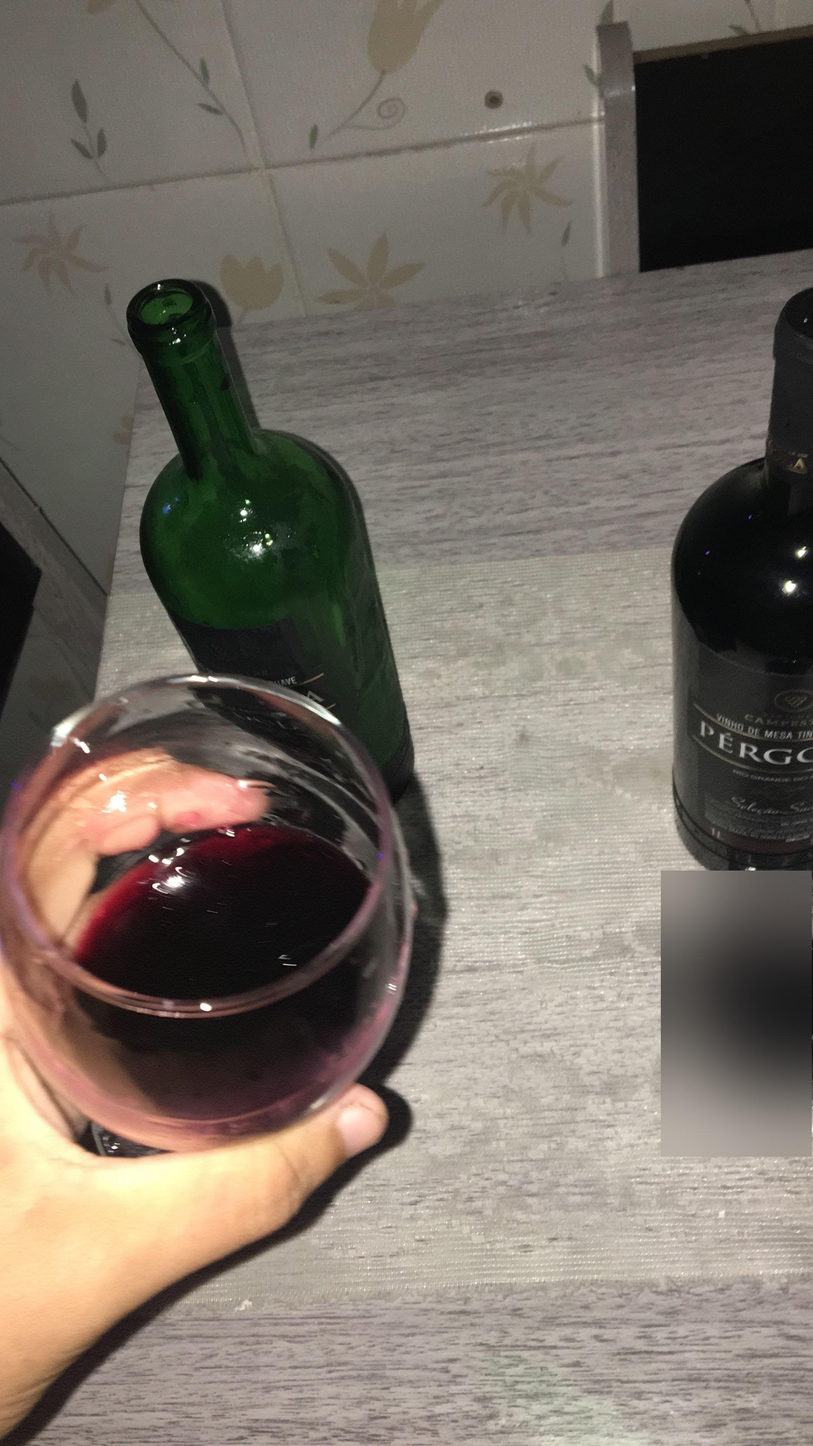bottle-glass: (124, 273, 435, 825), (665, 304, 813, 880)
glass-wine: (8, 667, 427, 1178)
